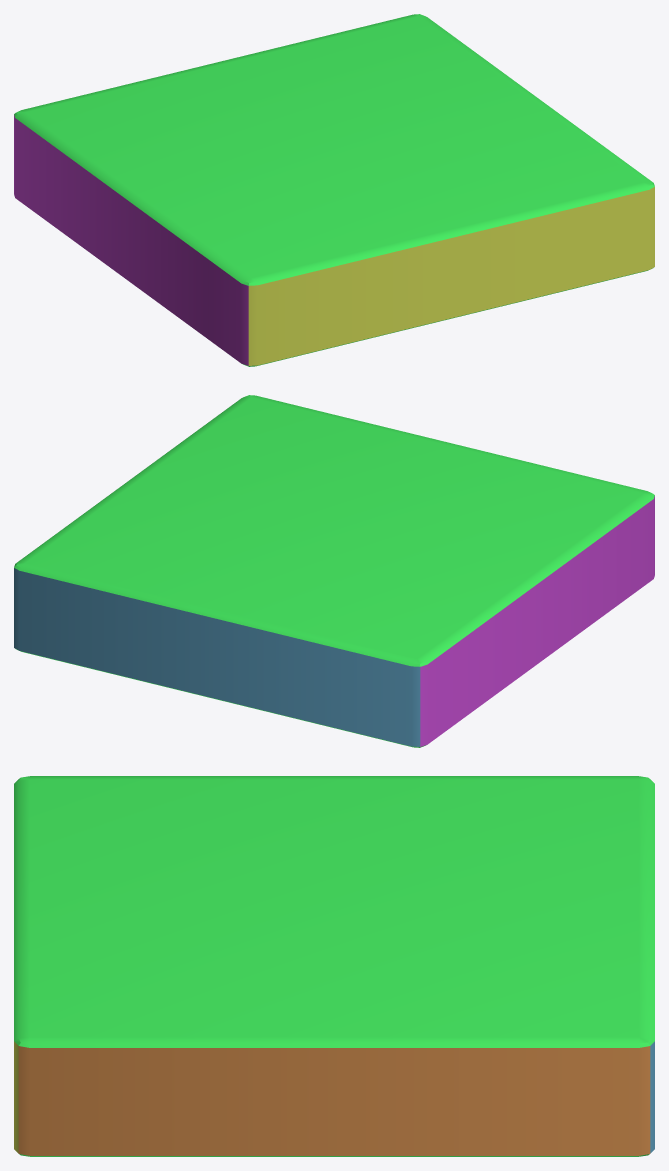
Rendered from Thin_Cube.fbx.
3 renders of one model, top to bottom at view 1: azimuth 30°, elevation 25°; view 2: azimuth 150°, elevation 25°; view 3: azimuth 270°, elevation 25°, orthographic. The views are drawn at different scales.
Visible parts, largest first — view 1: Thin Cube; view 2: Thin Cube; view 3: Thin Cube.
Boxes of the visible parts, <box> form: Thin Cube: <box>14,14,654,366</box>; Thin Cube: <box>14,395,654,747</box>; Thin Cube: <box>14,776,654,1156</box>.
Bounding box in the file's own units: 200 × 40 × 200.
